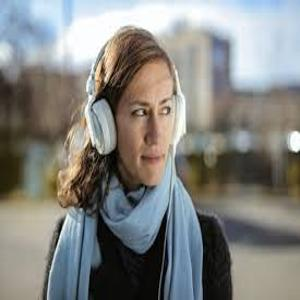Headphones: (85, 28, 187, 155)
